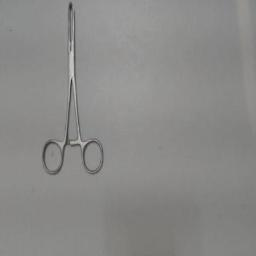Allis Tissue Forceps: (38, 2, 110, 180)
